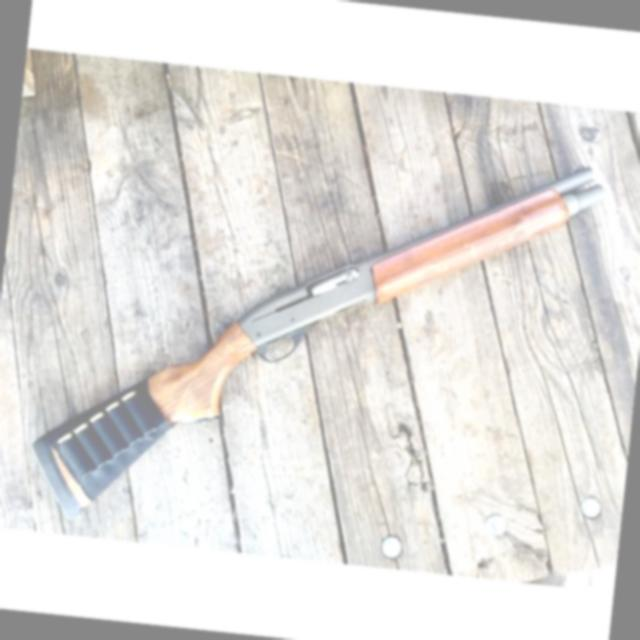shotgun: (0, 101, 633, 584)
